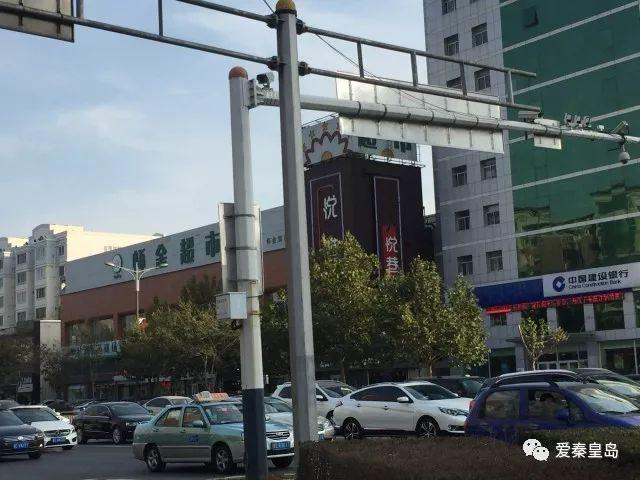camera: (254, 69, 274, 91), (518, 110, 542, 121), (620, 152, 633, 167), (613, 118, 628, 130), (583, 116, 592, 129), (574, 116, 582, 126), (565, 113, 571, 125)
car: (465, 370, 639, 467), (132, 398, 291, 474), (326, 381, 472, 439), (3, 404, 78, 452), (74, 401, 152, 443), (568, 369, 640, 412), (271, 381, 348, 412), (0, 411, 46, 459), (140, 395, 193, 411)
